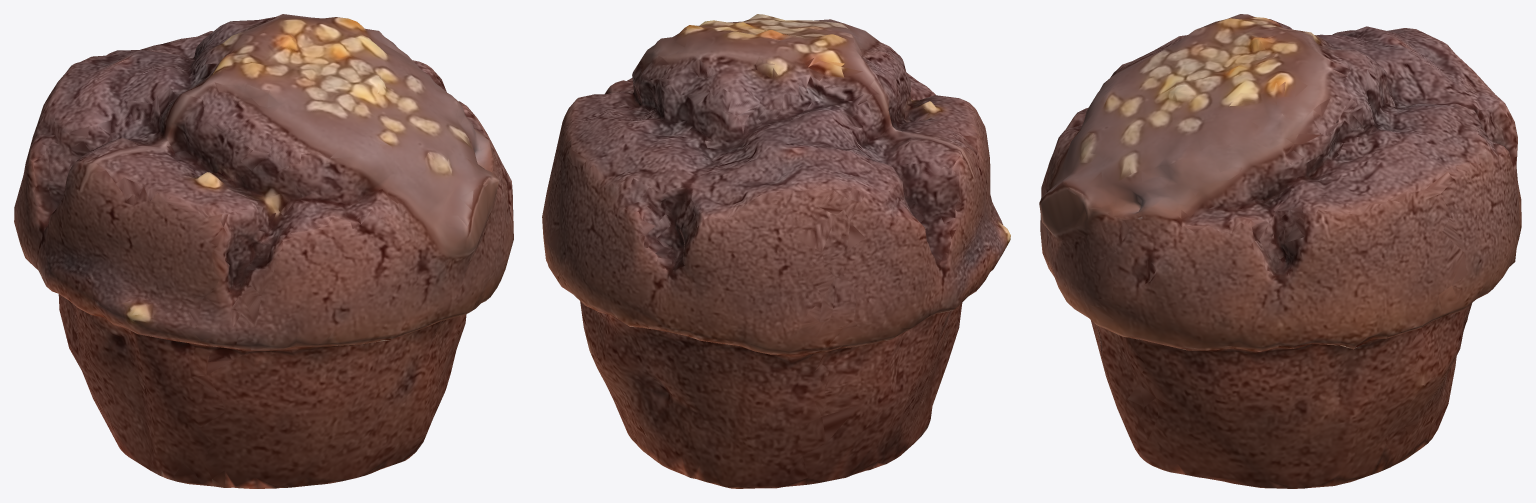
Rendered from muffin_4470.obj.
3 views of the same model, side by side, from view 1: azimuth 30°, elevation 25°; view 2: azimuth 150°, elevation 25°; view 3: azimuth 270°, elevation 25° (orthographic). The views are drawn at different scales.
Bounding box in the file's own units: 14.21 × 13.01 × 14.4.
1 material, 1 textured.
